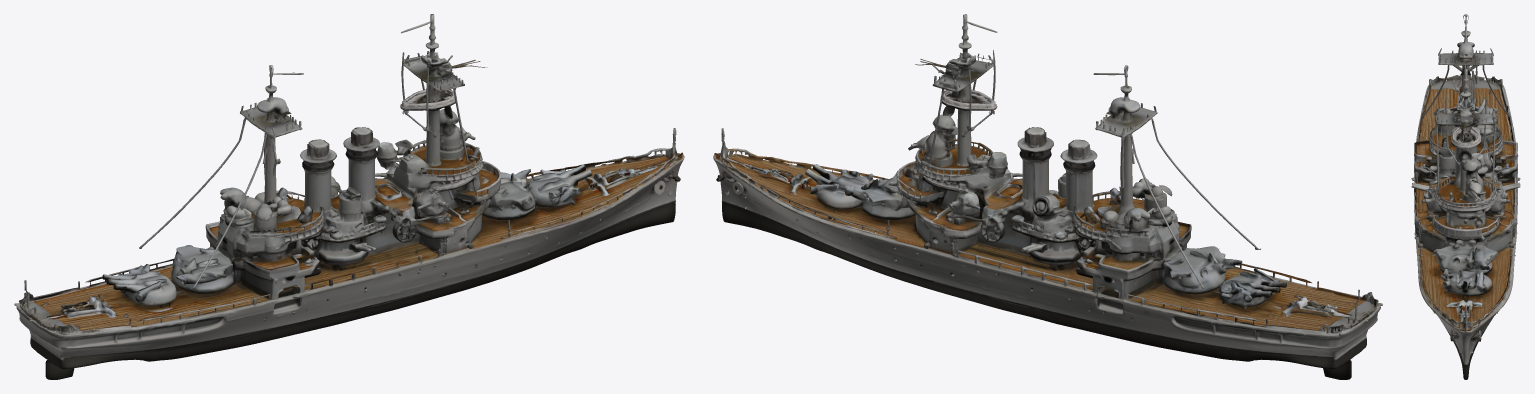
Rendered from colorado.glb.
3 renders of one model, left to right at view 1: azimuth 30°, elevation 25°; view 2: azimuth 150°, elevation 25°; view 3: azimuth 270°, elevation 25°, orthographic. The views are drawn at different scales.
Visible parts, largest first — view 1: tripo_node_71d399d5-1e89-42db-866b-2ff23f4f7f82; view 2: tripo_node_71d399d5-1e89-42db-866b-2ff23f4f7f82; view 3: tripo_node_71d399d5-1e89-42db-866b-2ff23f4f7f82.
Part boxes in pixels (<box>): tripo_node_71d399d5-1e89-42db-866b-2ff23f4f7f82: <box>14,14,684,379</box>; tripo_node_71d399d5-1e89-42db-866b-2ff23f4f7f82: <box>713,14,1382,379</box>; tripo_node_71d399d5-1e89-42db-866b-2ff23f4f7f82: <box>1411,14,1520,379</box>.
Bounding box in the file's own units: 0.9847 × 0.3939 × 0.1754.
1 material, 1 textured.
